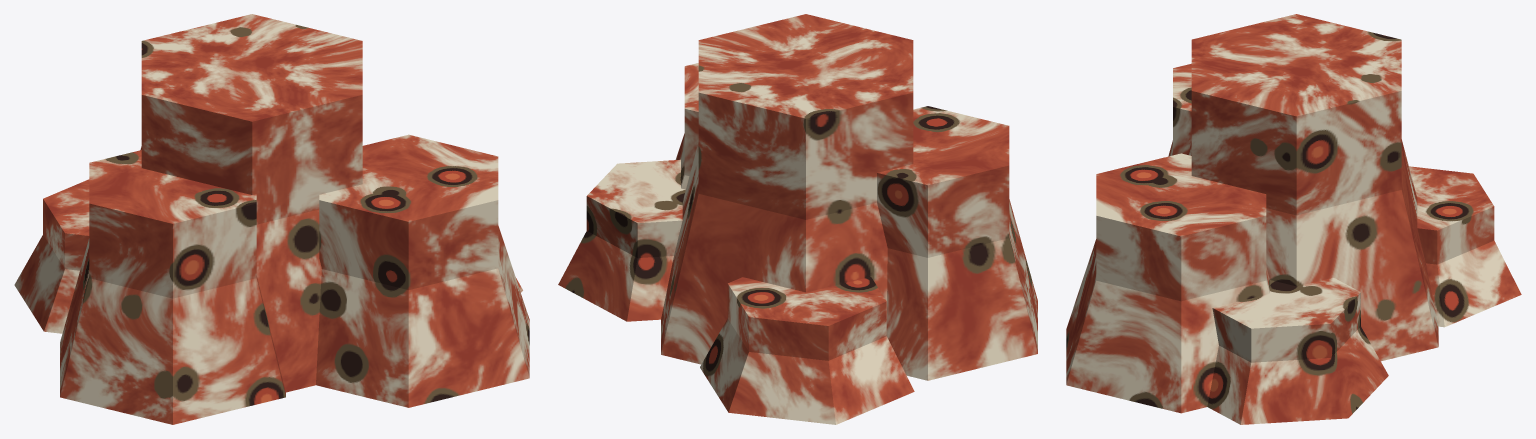
File: leopardo.glb
The picture shows the model from 3 angles, left to right: view 1: azimuth 30°, elevation 25°; view 2: azimuth 150°, elevation 25°; view 3: azimuth 270°, elevation 25°; orthographic projection. The views are drawn at different scales.
Parts seen in each view (by area): view 1: leopardo; view 2: leopardo; view 3: leopardo.
Part boxes in pixels (<box>): leopardo: <box>14,14,529,424</box>; leopardo: <box>558,14,1037,424</box>; leopardo: <box>1066,14,1521,424</box>.
Size of the model in its own units: 1.1 by 0.5983 by 0.9978.
Materials: 1 (1 with a texture image).
